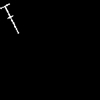double_crochet: (1, 4, 18, 32)
